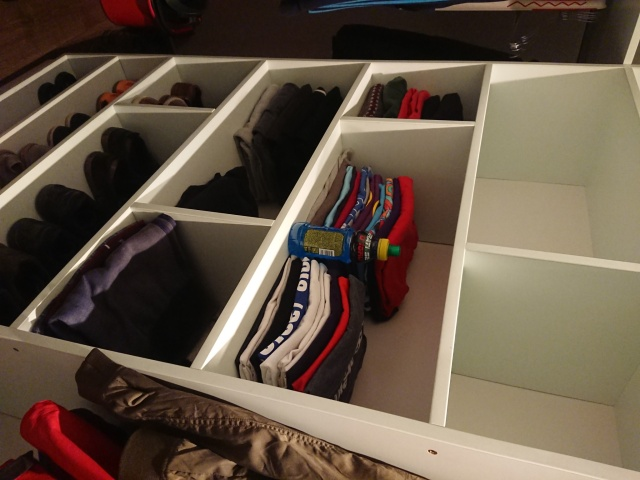Vindi Iso Sport Forest Strawberries 500mL: (286, 220, 402, 264)
